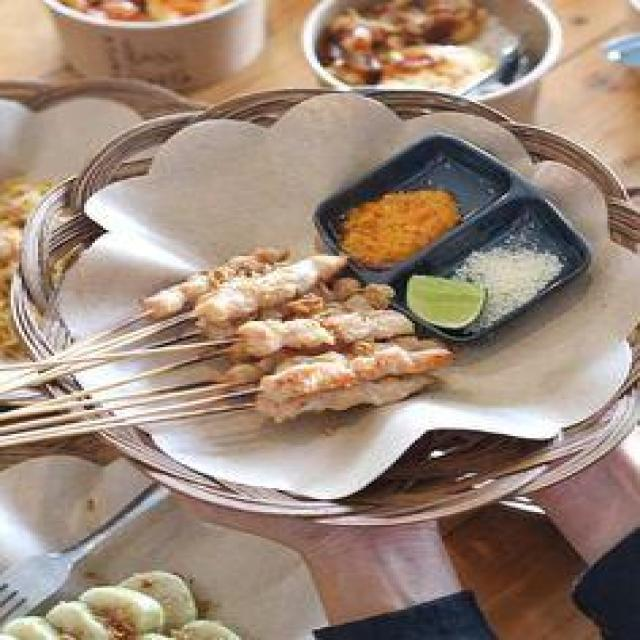Sate: (19, 250, 434, 457)
